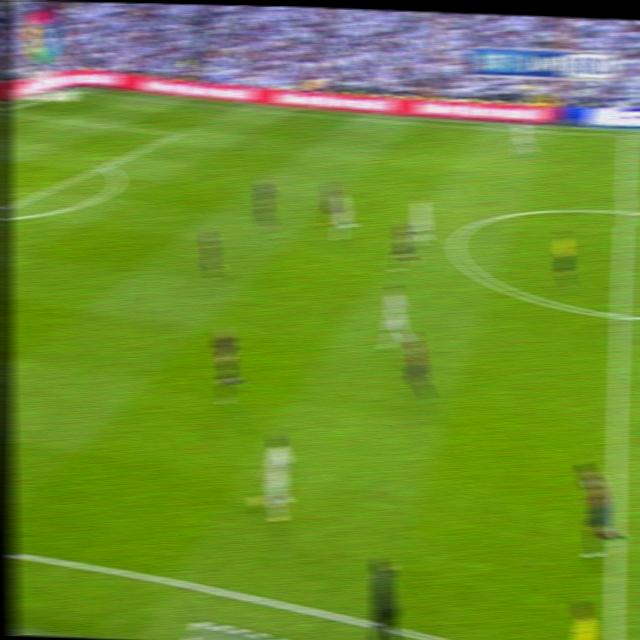corner: (74, 85, 88, 96)
halfcircle_bottom: (609, 298, 629, 331)
halfcircle_top: (614, 197, 632, 225)
top_arc_area_intersection: (97, 156, 111, 172)
